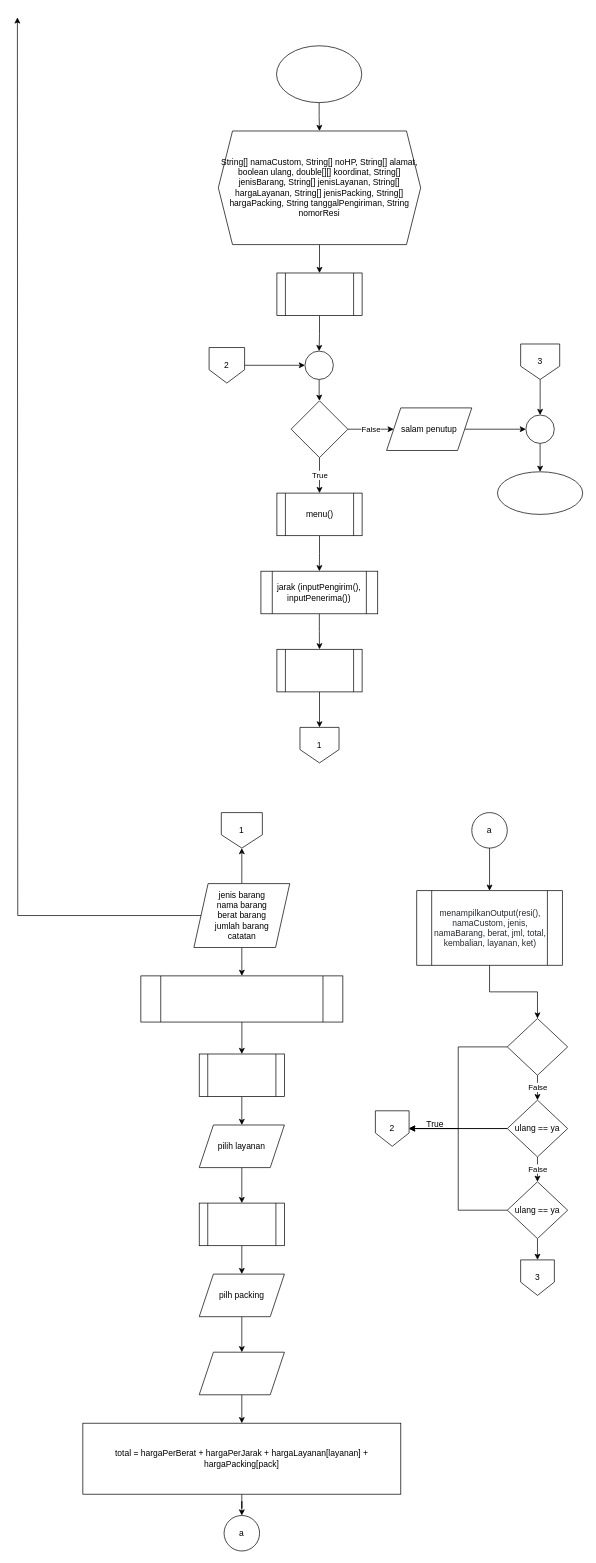
This 596x1563 diagram has some shape labels left out. Each missing label, with the centre of its shape:
end: the point at 540,492
jenis pembayaran: the point at 241,1373
judul(): the point at 319,294
menghitungHargaBarangPerBerat (berat, jml): the point at 241,998
start: the point at 319,74
tampilBarang(): the point at 319,670
tampilLayanan(): the point at 241,1075
tampilPacking(): the point at 241,1224
ulang = true: the point at 319,429
ulang == y: the point at 537,1046
